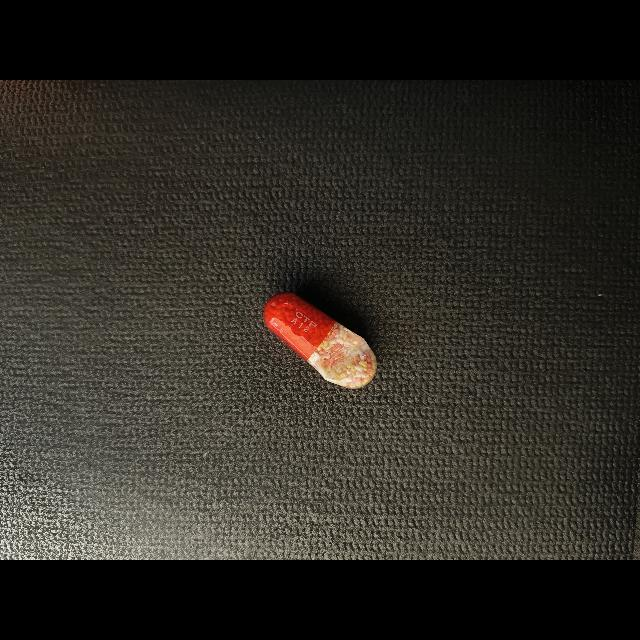Defective Capsule: (264, 292, 377, 389)
